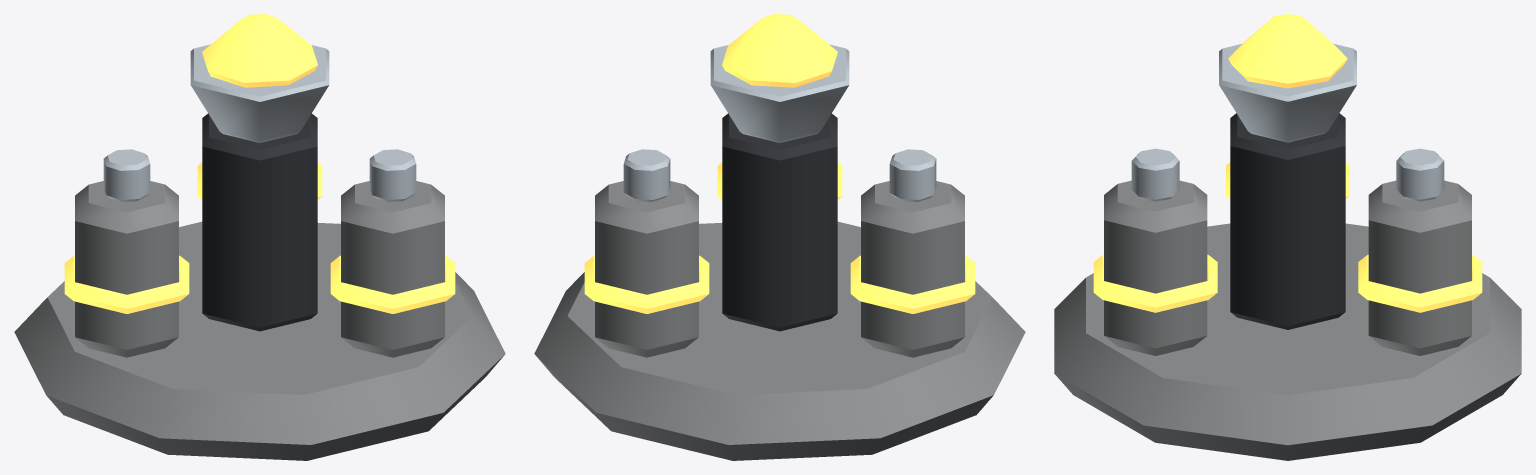
File: R4D_BurnTrap_LOD1.glb
3 renders of one model, left to right at view 1: azimuth 30°, elevation 25°; view 2: azimuth 150°, elevation 25°; view 3: azimuth 270°, elevation 25°, orthographic.
Visible parts, largest first — view 1: R4D_BurnTrap_LOD1; view 2: R4D_BurnTrap_LOD1; view 3: R4D_BurnTrap_LOD1.
Boxes of the visible parts, x1,y1,x2,y2 form: R4D_BurnTrap_LOD1: (14, 14, 505, 460); R4D_BurnTrap_LOD1: (534, 14, 1025, 460); R4D_BurnTrap_LOD1: (1054, 14, 1521, 460).
Bounding box in the file's own units: 0.37 × 0.288 × 0.3519.
